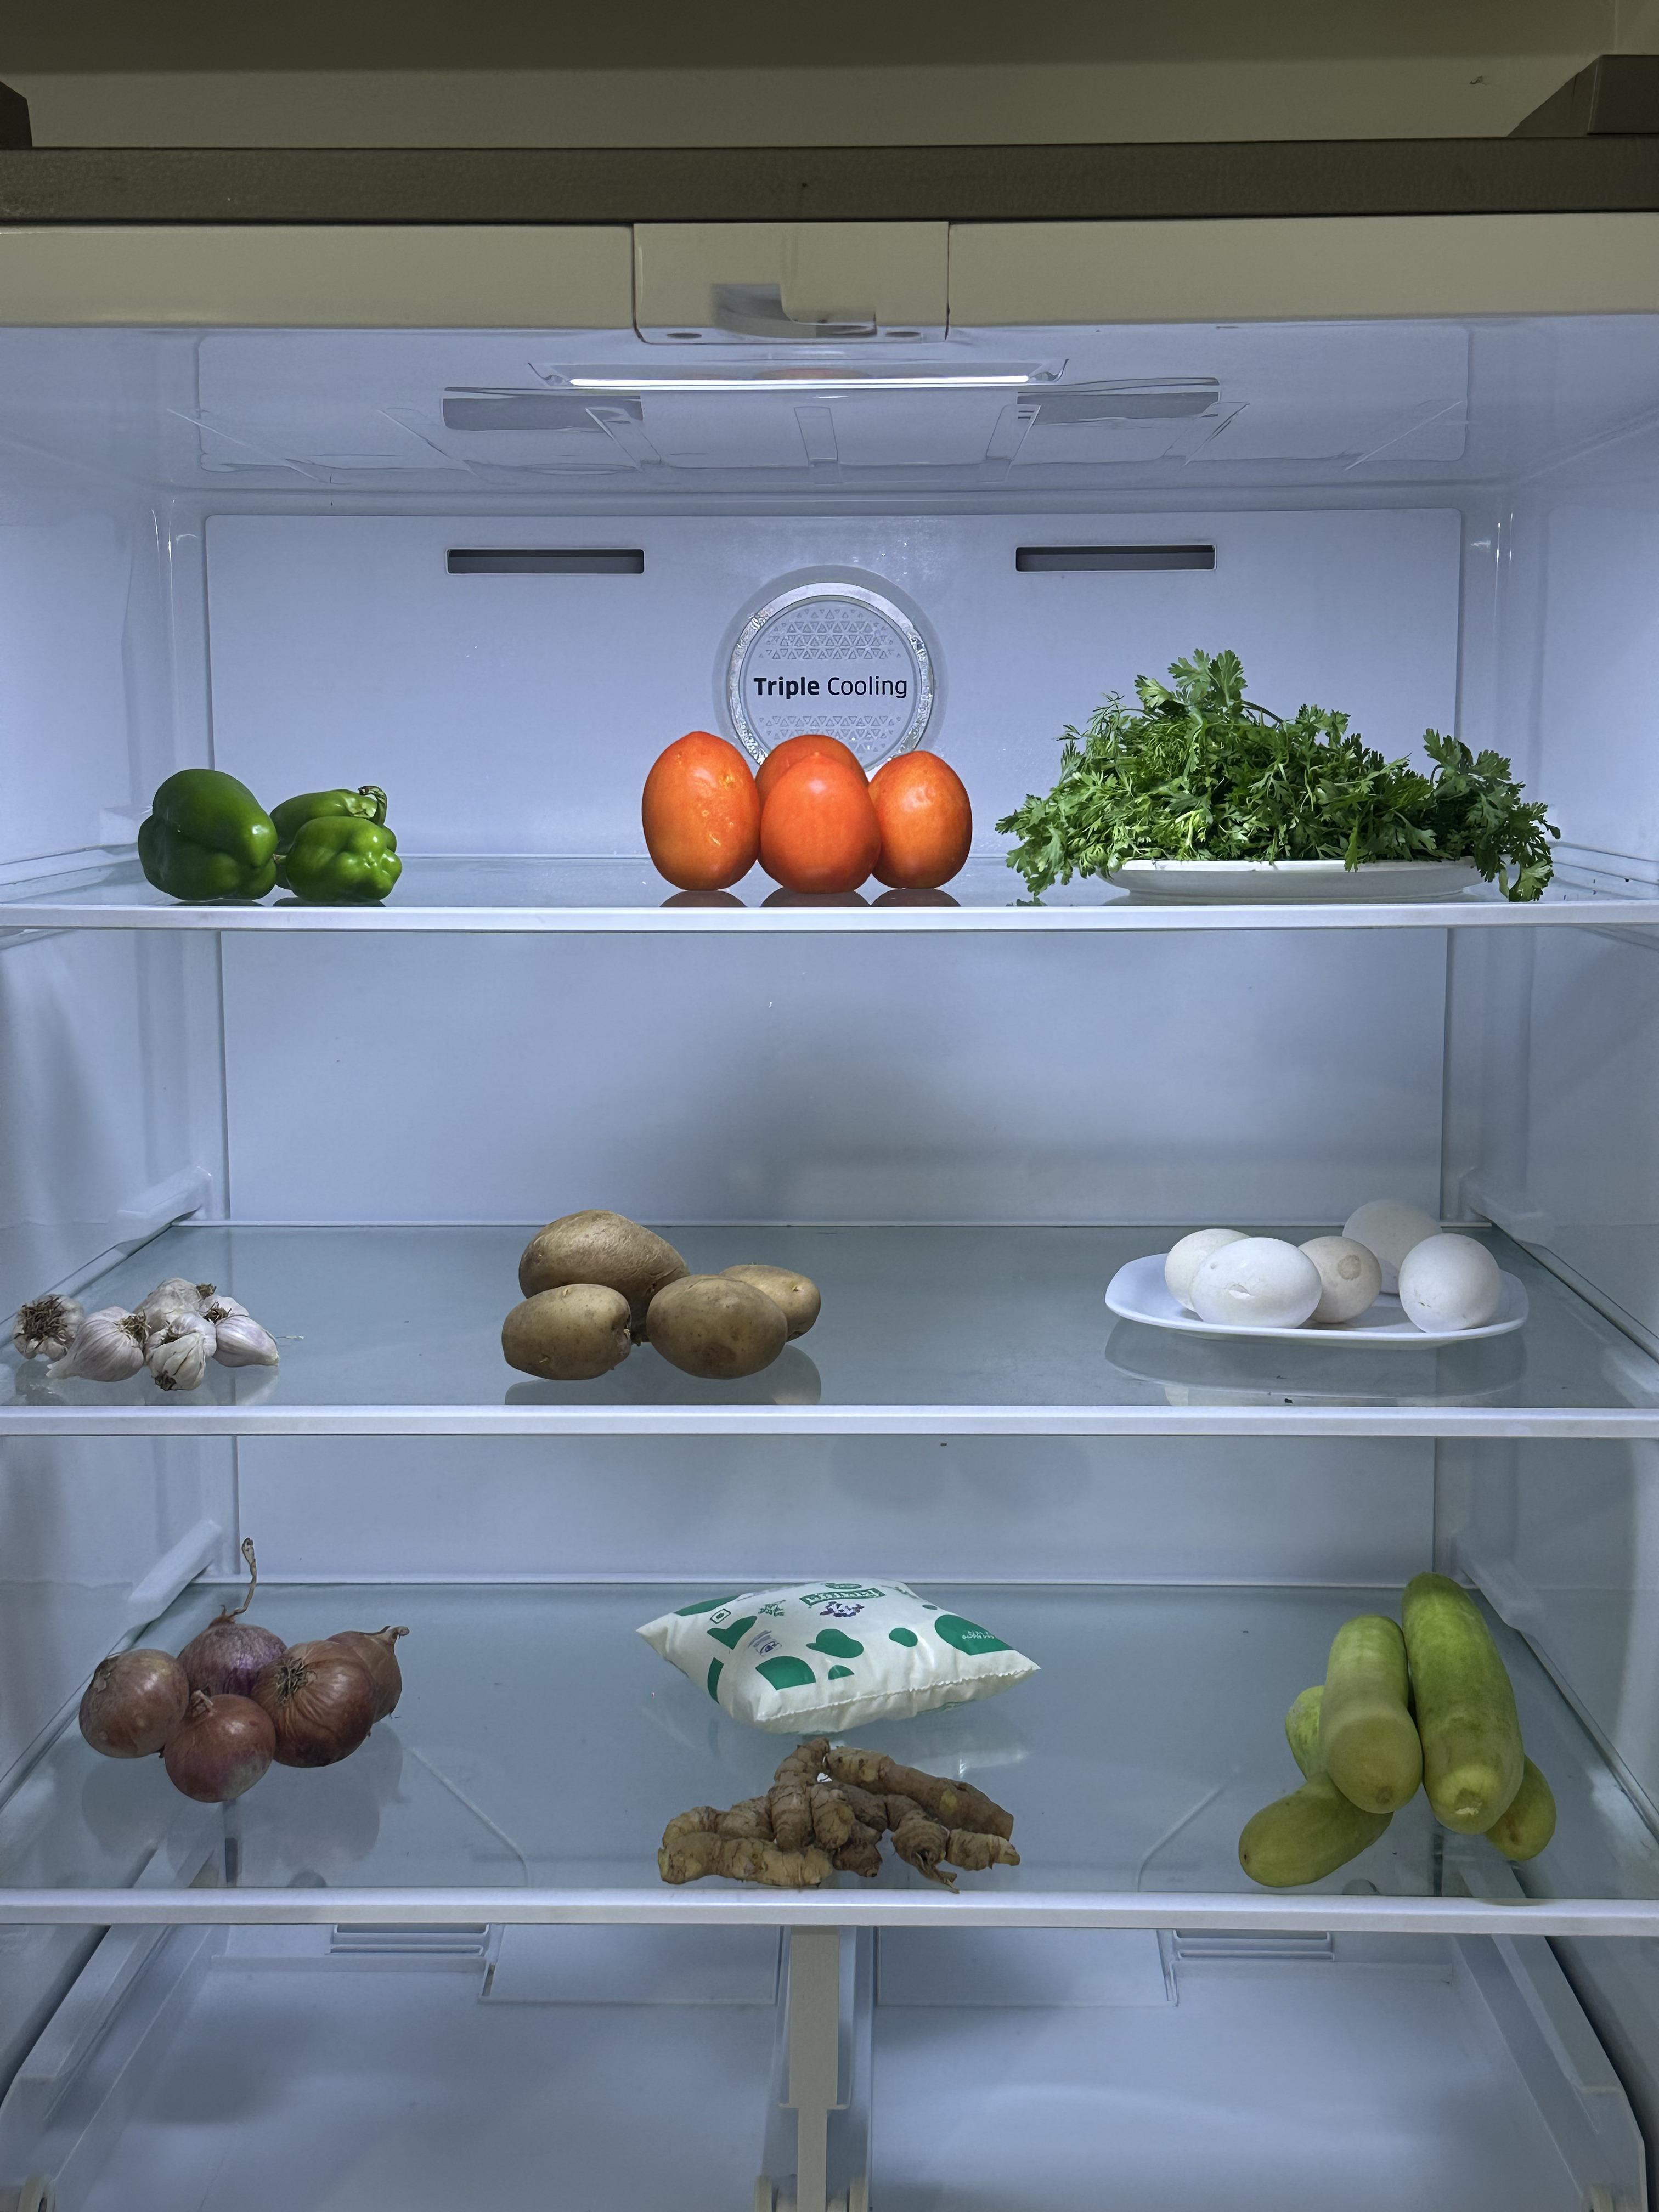capsicum: (122, 752, 437, 925)
coriander: (1044, 648, 1553, 899)
egg: (1131, 1191, 1516, 1341)
garlic: (28, 1258, 296, 1407)
ginger: (1241, 1569, 1596, 1898), (620, 1750, 1047, 1898)
milk: (627, 1548, 1065, 1745)
onion: (61, 1602, 432, 1806)
potato: (472, 1191, 836, 1393)
tomato: (610, 714, 995, 890)
